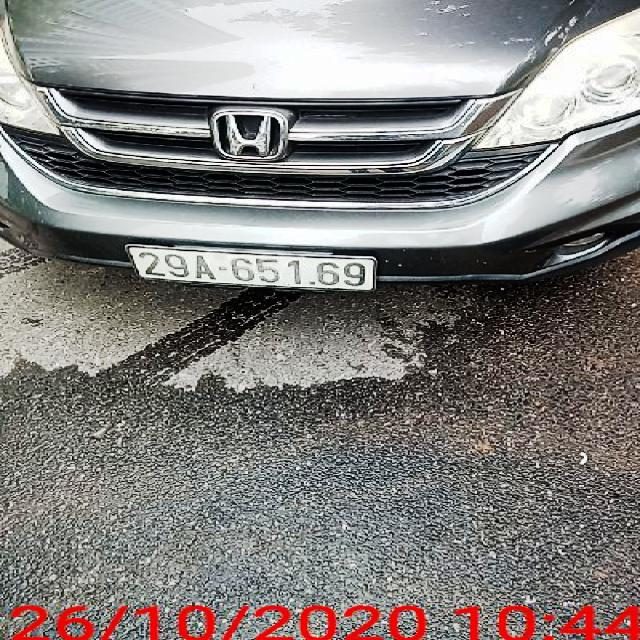license_plate: (134, 246, 378, 291)
